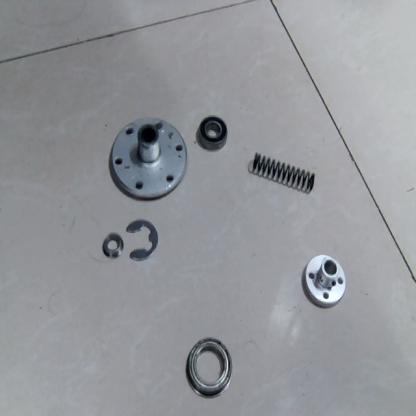FOD: (108, 115, 186, 202), (249, 147, 318, 195), (183, 337, 235, 397), (302, 251, 349, 307), (124, 215, 161, 266), (194, 112, 228, 150), (102, 230, 122, 261)
